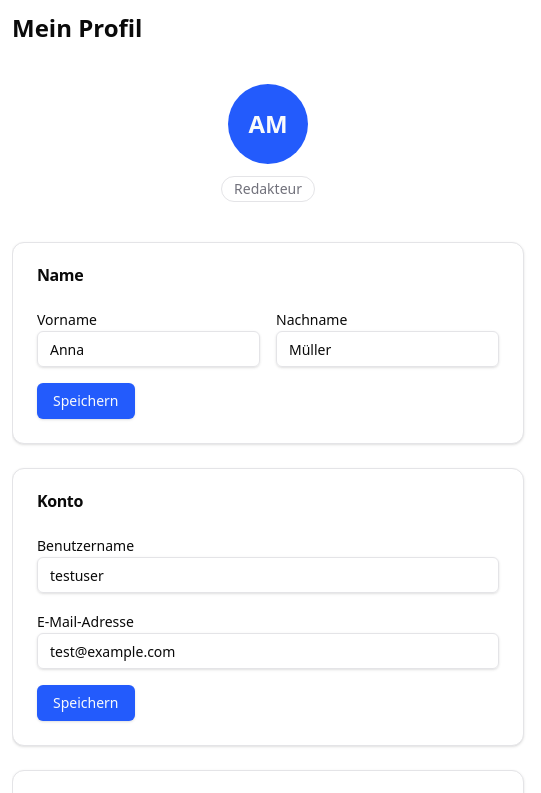
Test: ProfilePage › Name section › shows error alert when updateProfile fails
The width and height of the screenshot is (541, 793).
Click the button "Speichern" below "Vorname". click: (86, 401)
box: [37,383,134,419]
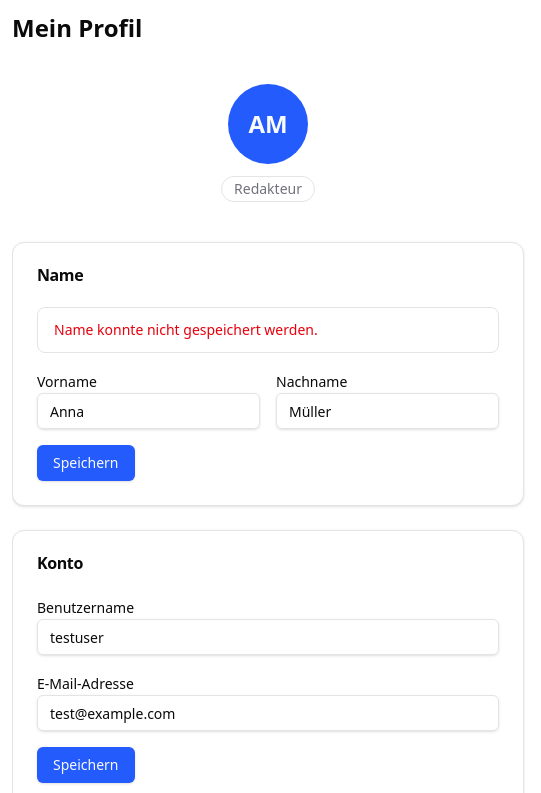
expect the text "Name konnte nicht gespeichert werden." is shown: met, box [37,307,499,353]
